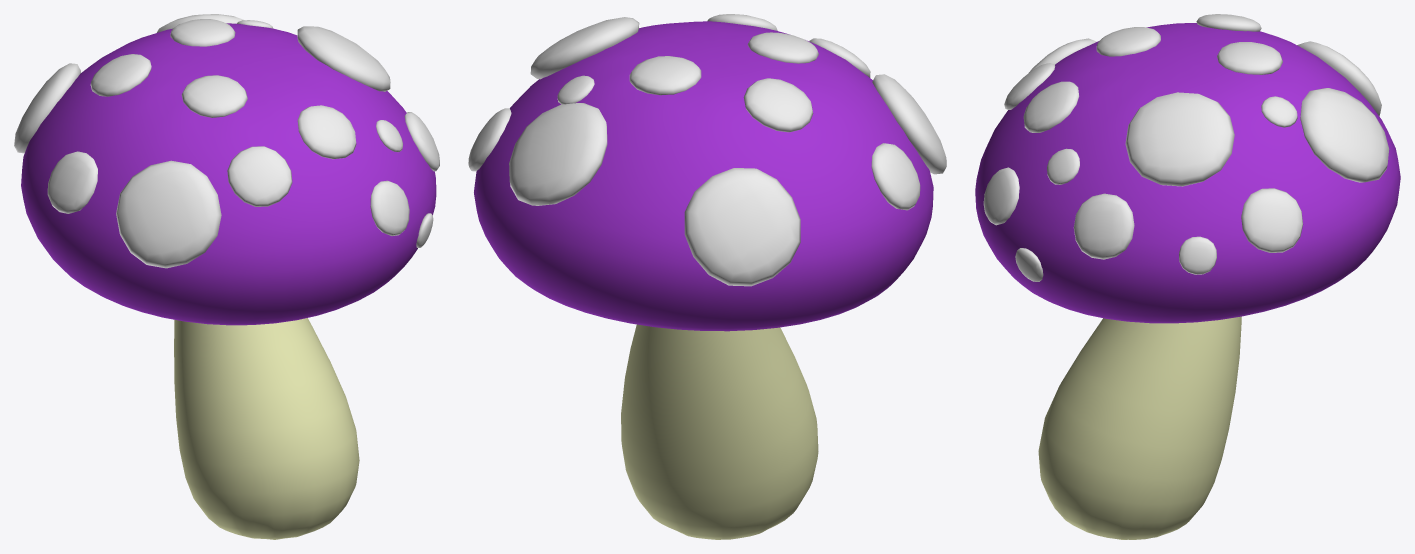
File: mushroom.fbx
3 renders of one model, left to right at view 1: azimuth 30°, elevation 25°; view 2: azimuth 150°, elevation 25°; view 3: azimuth 270°, elevation 25°, orthographic. The views are drawn at different scales.
Visible parts, largest first — view 1: Circle.001, Circle, Cube.005; view 2: Circle.001, Cube.005, Circle; view 3: Circle.001, Circle, Cube.005.
Part boxes in pixels (x1,y1,x2,y2): Circle.001: (21, 23, 436, 325); Circle: (174, 318, 359, 539); Cube.005: (14, 14, 439, 268); Circle.001: (474, 21, 933, 331); Cube.005: (468, 14, 946, 286); Circle: (621, 324, 818, 539); Circle.001: (975, 23, 1400, 323); Circle: (1038, 316, 1241, 539); Cube.005: (983, 14, 1389, 281).
Bounding box in the file's own units: 423 × 511 × 416.
